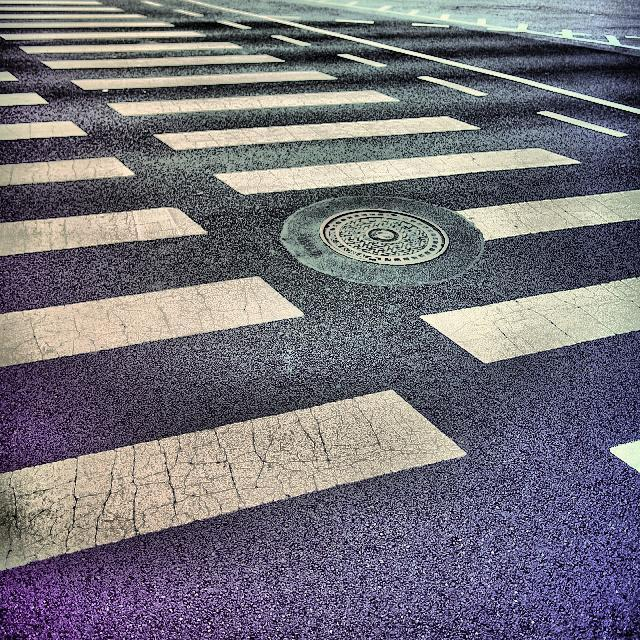crosswalk: (1, 61, 471, 577)
